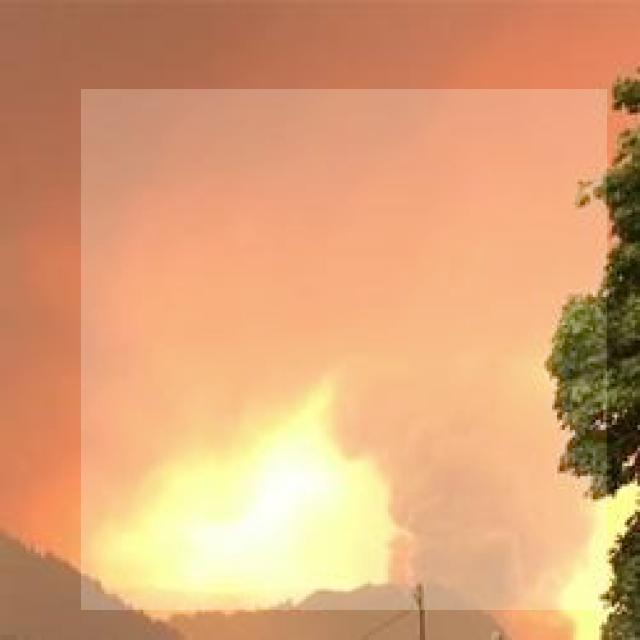Smoke: (82, 89, 608, 610)
